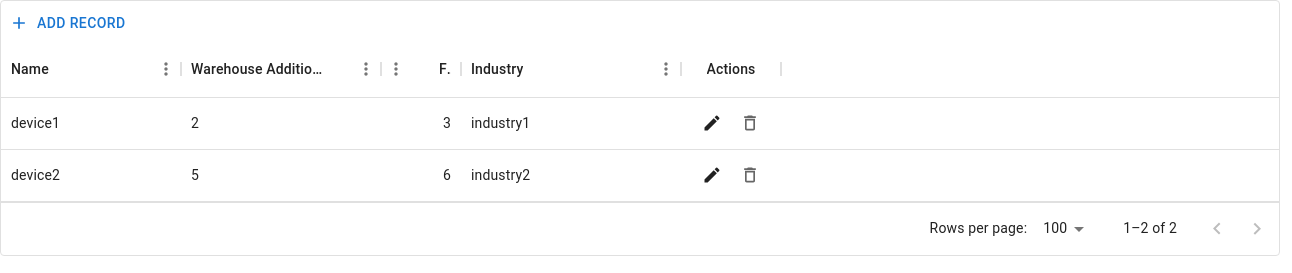
Delete functionality › delete button removes deleted data
This screenshot has width=1292, height=273.
Expected: the text "device1" is shown, [11,113,60,133]
Expected: the text "device2" is shown, [11,165,60,185]
Click the menu item with test id "delete-button" in the row of "device1" at (750, 123), box [735,108,765,138]
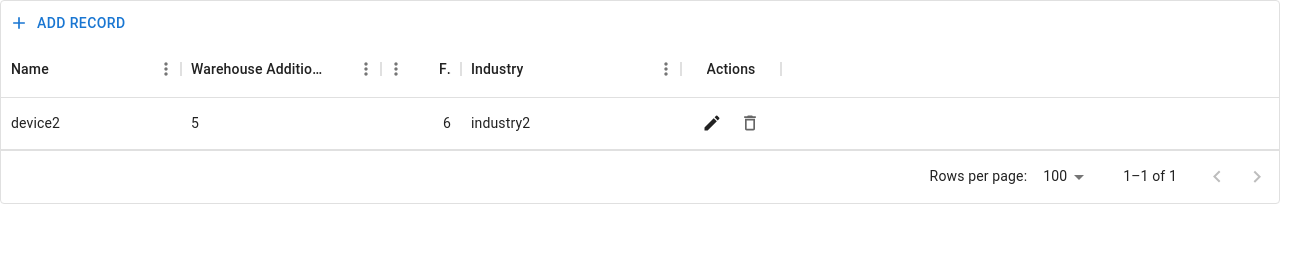
Expected: the text "device2" is shown, [11,113,60,133]
Expected: the text "device1" is gone
Click the menu item with test id "delete-button" at (750, 123), box [735,108,765,138]
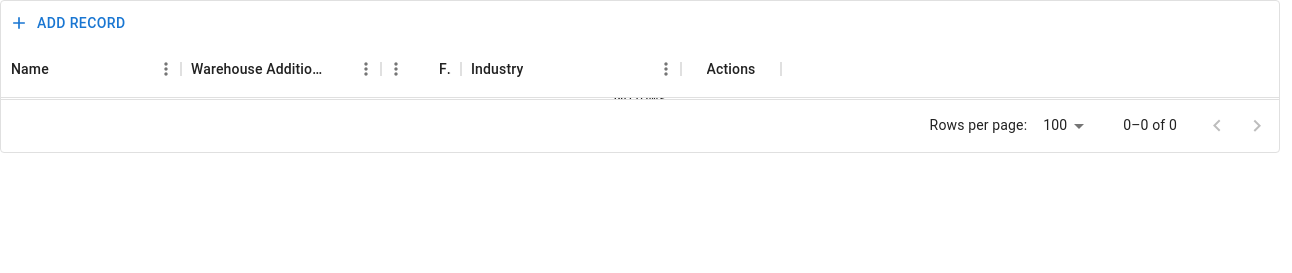
Expected: the text "device1" is not shown
Expected: the text "device2" is gone
